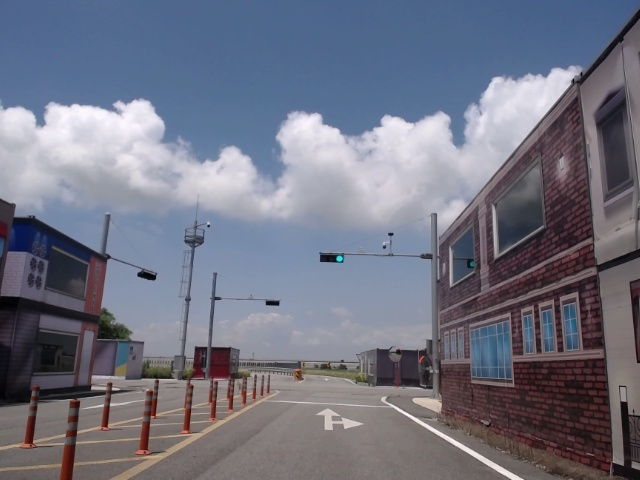green_3: (321, 255, 343, 261)
